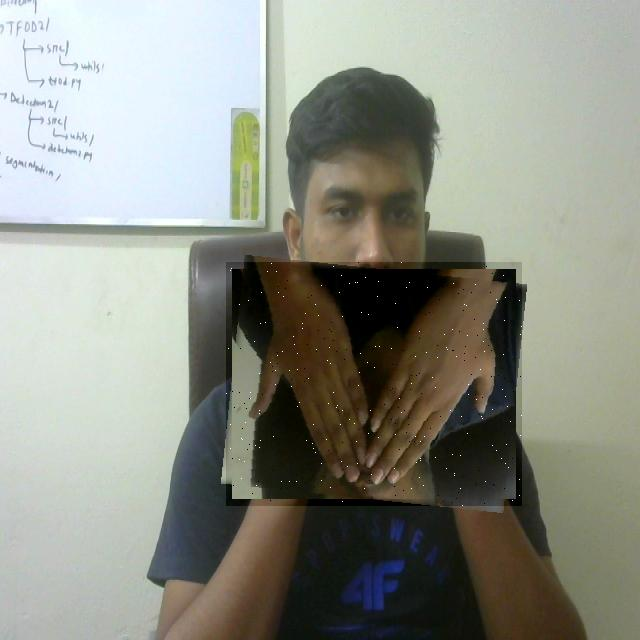Thanks: (226, 262, 522, 506)
